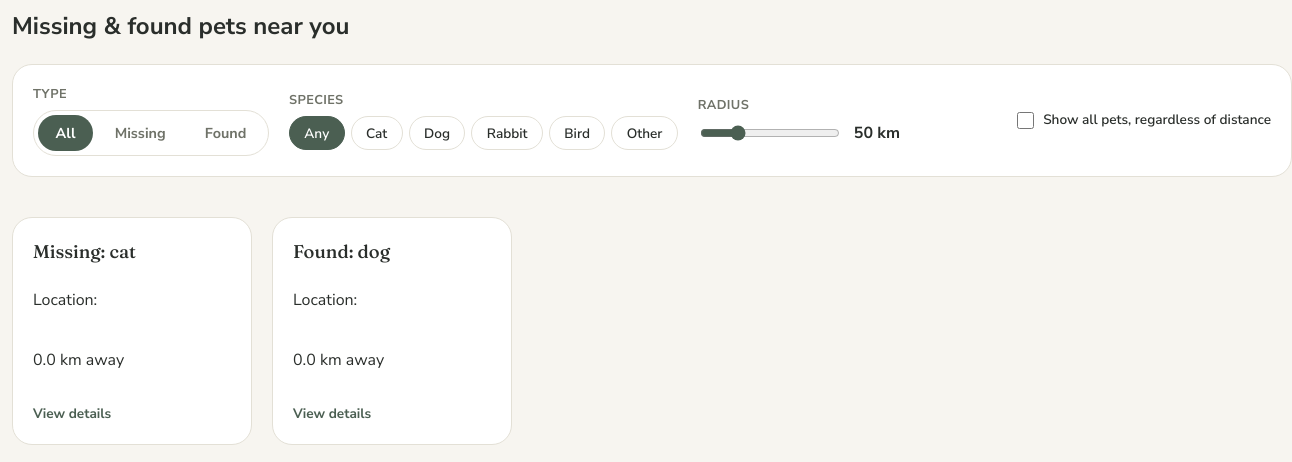
the type segmented control filters between missing and found posts
Expected: the heading "Missing: cat" is shown, [33,240,136,263]
Expected: the heading "Found: dog" is shown, [293,240,390,263]
What coordinates should you click on to do the following:
click the radio button labelled "Found"
I would click on:
 (226, 133)
Its box is [187,115,264,151].
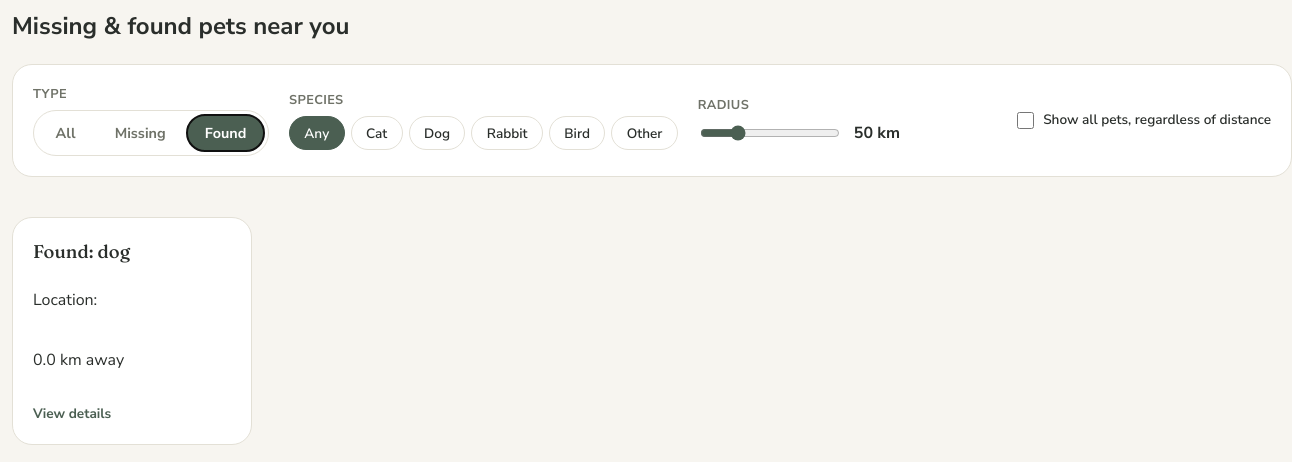
Expected: the heading "Found: dog" is shown, [33,240,130,263]
Expected: the link "Missing: cat" is gone
